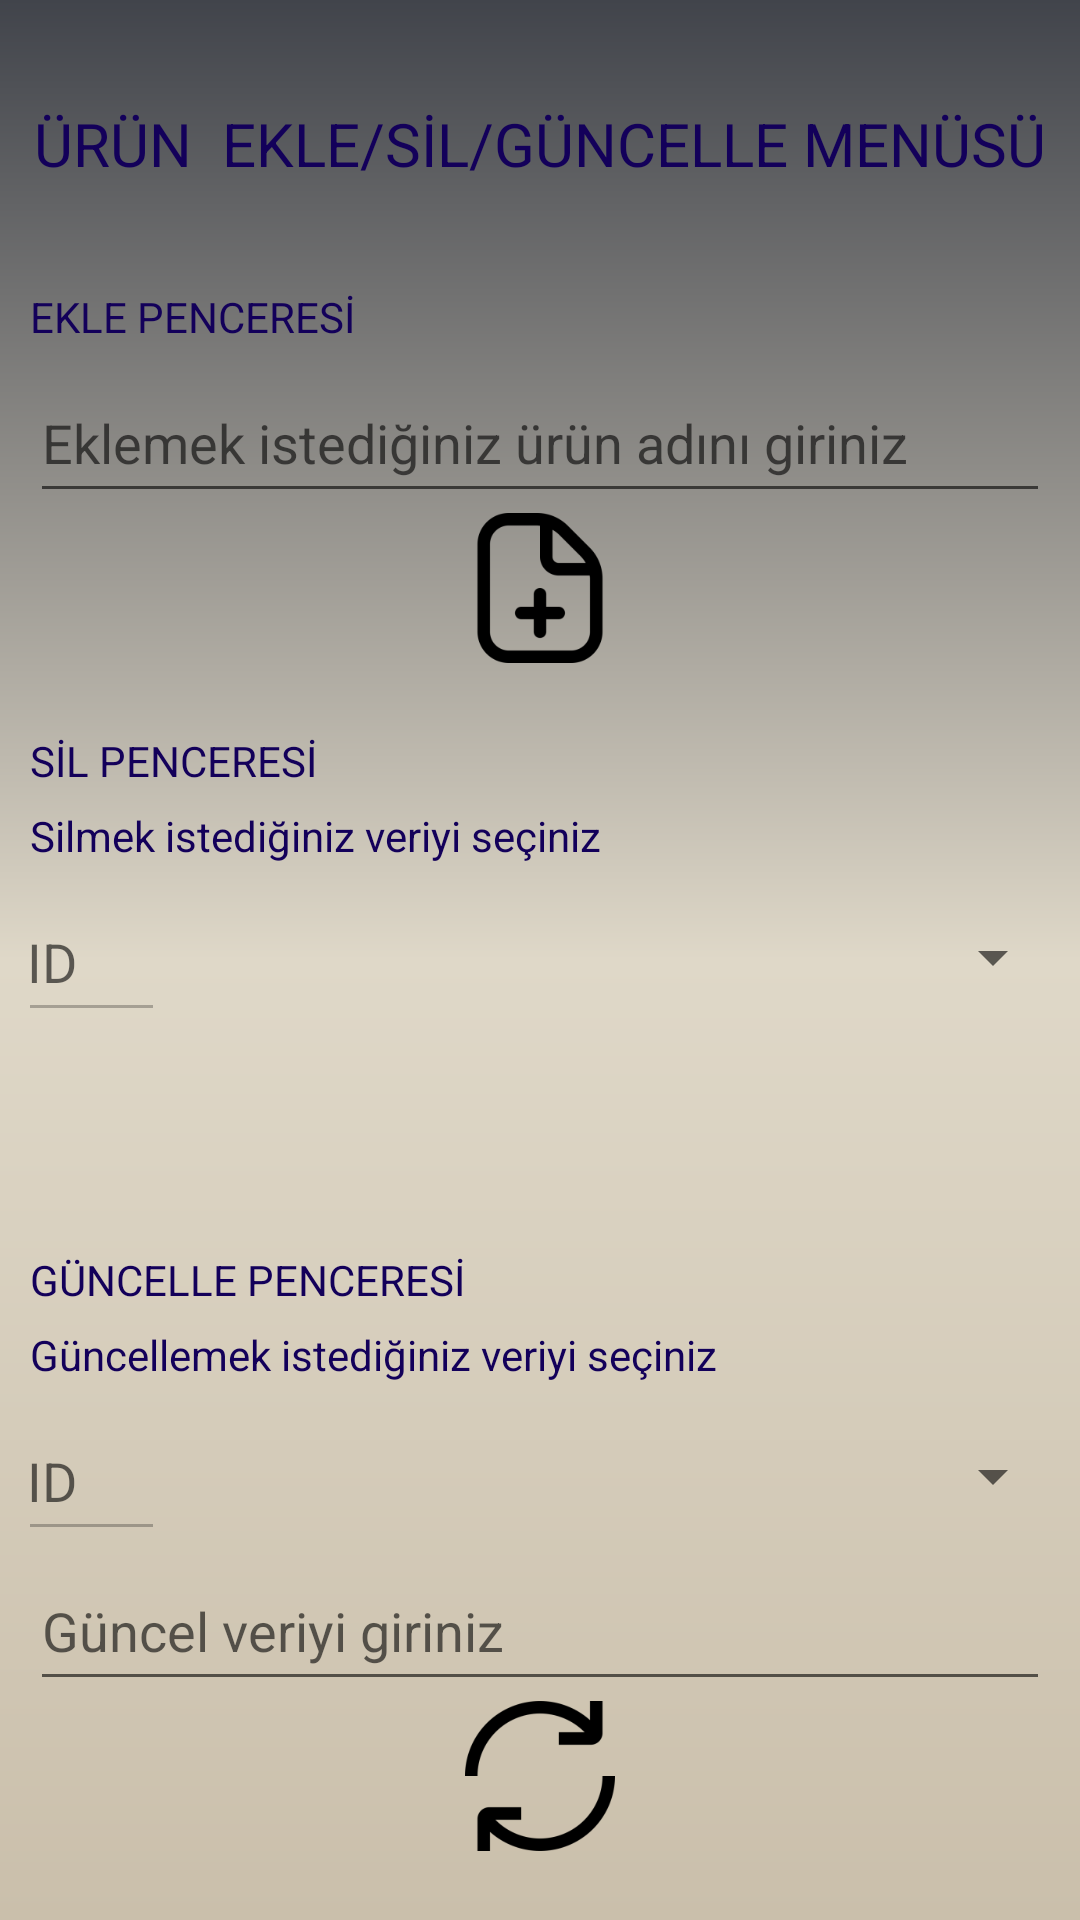

Icons on this 1080px x 1920px Android screen, each with the point to tap as point (x, y):
create: point (540, 588)
update: point (540, 1776)
